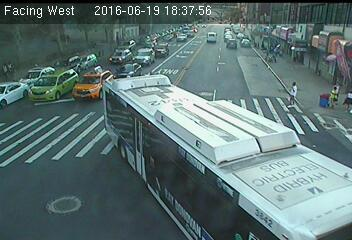neg: (27, 49, 39, 65), (268, 34, 279, 48)
pos: (282, 78, 306, 109), (327, 85, 343, 107), (341, 88, 351, 115), (1, 62, 11, 76), (7, 61, 16, 73)
